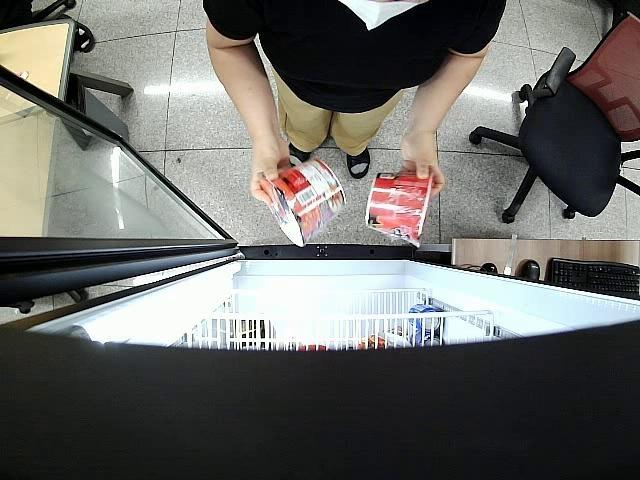01_ShinRamen_L: (260, 160, 346, 246), (364, 170, 434, 246)
